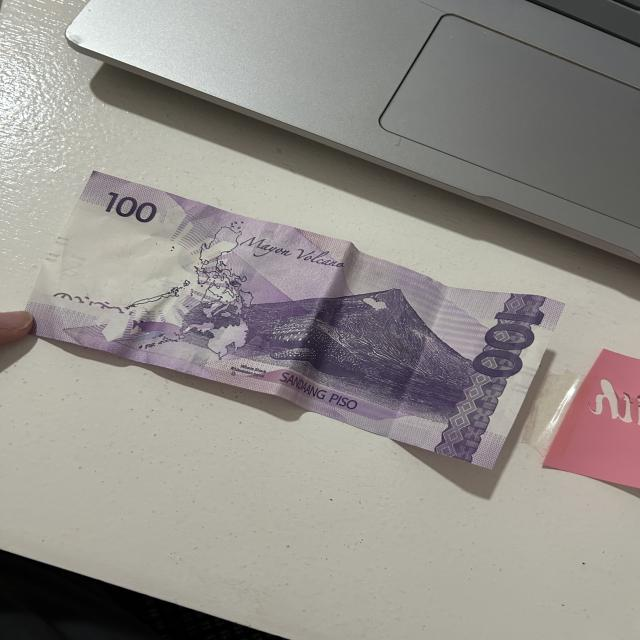100_whale: (242, 326, 374, 380)
100_whale_watermark: (130, 316, 187, 344)
value_watermark: (53, 258, 87, 280)
